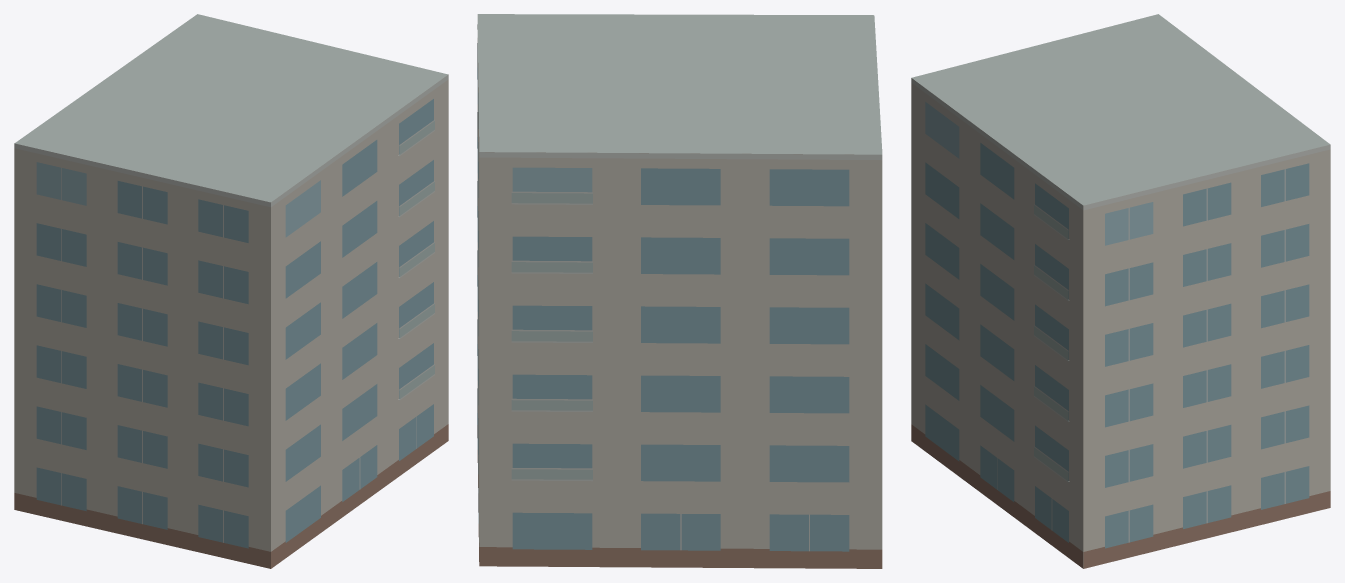
File: survey-upis-32721930.glb
3 renders of one model, left to right at view 1: azimuth 30°, elevation 25°; view 2: azimuth 150°, elevation 25°; view 3: azimuth 270°, elevation 25°, orthographic. The views are drawn at different scales.
Parts seen in each view (by area): view 1: survey-upis-32721930.tmp; view 2: survey-upis-32721930.tmp; view 3: survey-upis-32721930.tmp.
Boxes of the visible parts, x1,y1,x2,y2 form: survey-upis-32721930.tmp: (14,14,448,568); survey-upis-32721930.tmp: (477,14,882,568); survey-upis-32721930.tmp: (911,14,1330,568).
Size of the model in its own units: 20.71 by 18.3 by 19.15.
